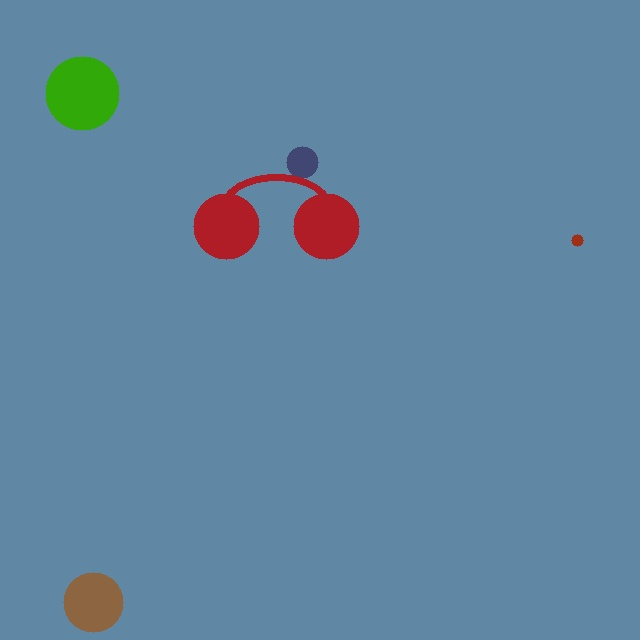over_ear: (189, 160, 363, 263)
